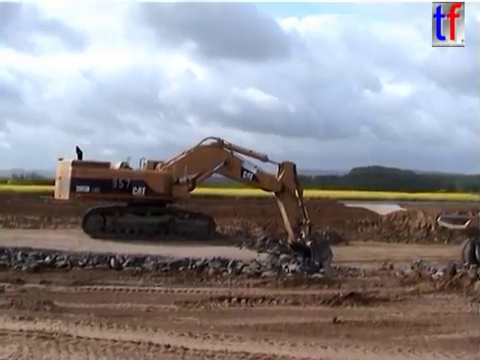excavator: (51, 133, 336, 278)
truck: (433, 212, 480, 270)
